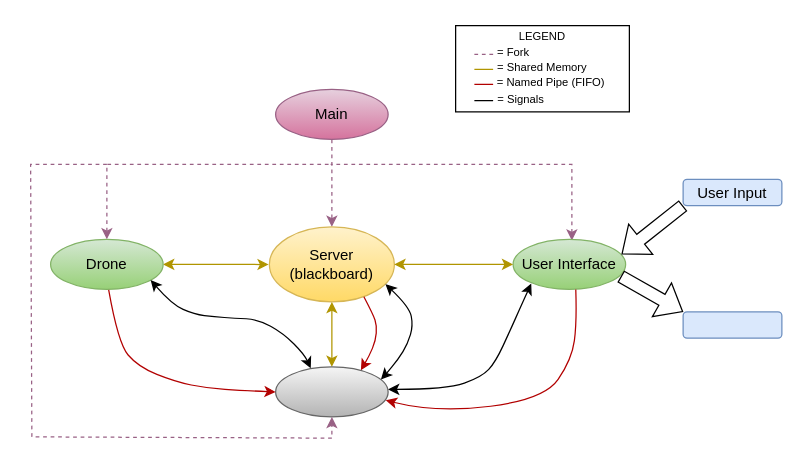
Image size: 804x470. Some labels were removed from this diagram. Here are the shapes that lost their labels. From the top down, the centre of each, then its label:
[732,324]: Visual Output
[331,391]: Watchdog
